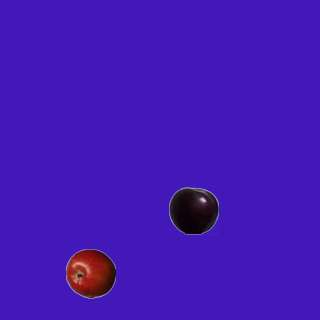Apple Braeburn: (65, 248, 115, 298)
Cherry Wax Black: (168, 185, 218, 235)
